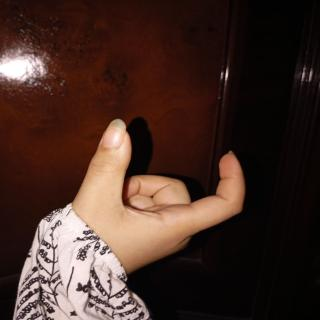NOON: (49, 112, 268, 283)
